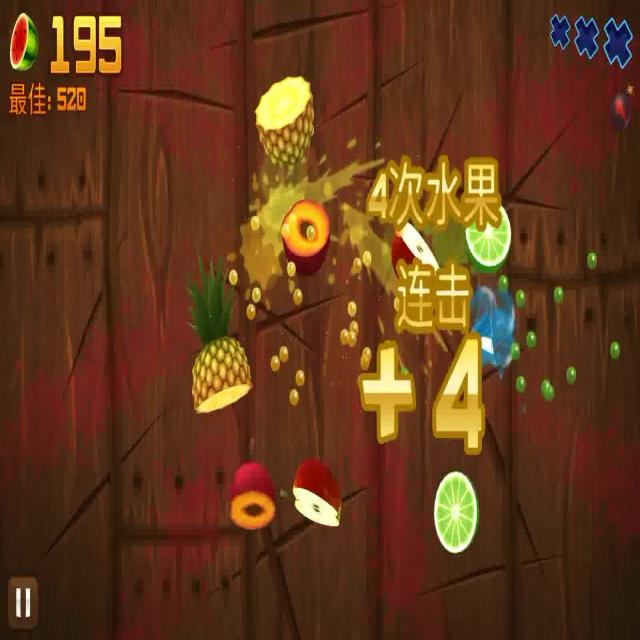fruit: (179, 259, 253, 419), (254, 73, 318, 163), (390, 221, 442, 295), (434, 471, 478, 557), (462, 200, 512, 271), (292, 459, 344, 527), (282, 201, 331, 271), (230, 464, 276, 530)
